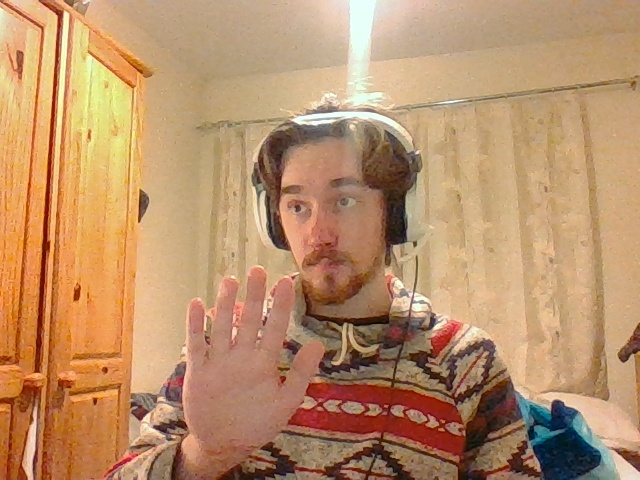hello: (181, 266, 325, 454)
